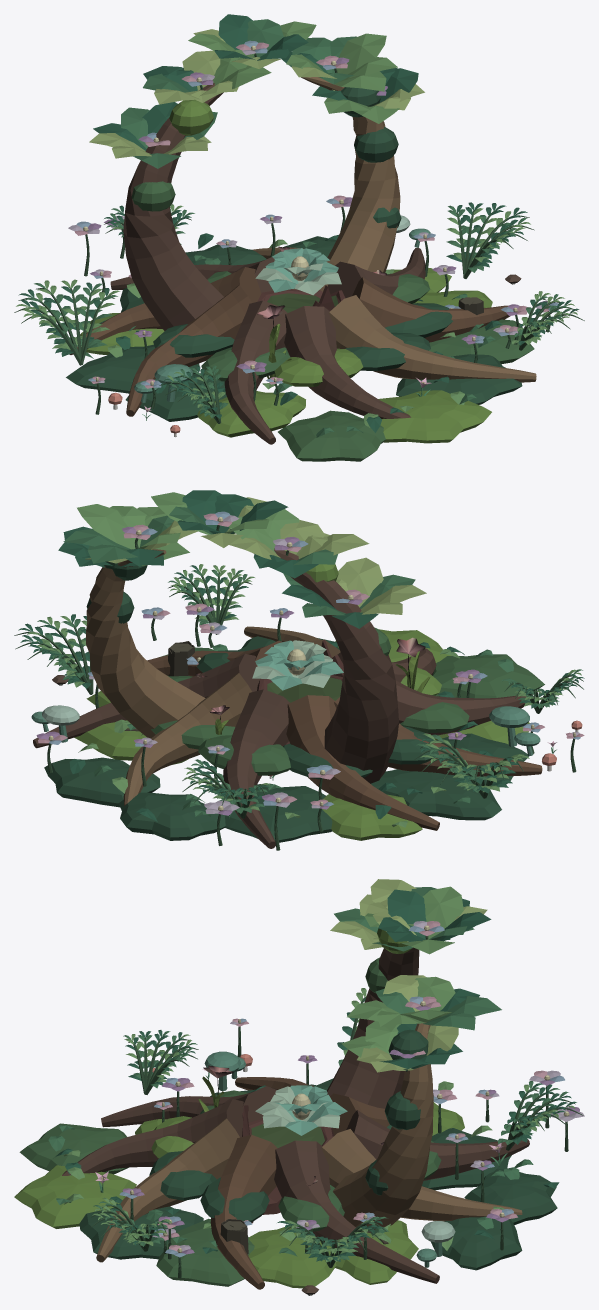
File: Enhanced_Sacred_Grove.glb
3 views of the same model, one above another, from view 1: azimuth 30°, elevation 25°; view 2: azimuth 150°, elevation 25°; view 3: azimuth 270°, elevation 25° (orthographic). The views are drawn at different scales.
Parts seen in each view (by area): view 1: Enhanced_Sacred_Grove; view 2: Enhanced_Sacred_Grove; view 3: Enhanced_Sacred_Grove.
Boxes of the visible parts, <box> form: Enhanced_Sacred_Grove: <box>14,14,584,461</box>; Enhanced_Sacred_Grove: <box>14,490,584,850</box>; Enhanced_Sacred_Grove: <box>14,879,584,1295</box>.
Bounding box in the file's own units: 7.9 × 4.18 × 7.42.
